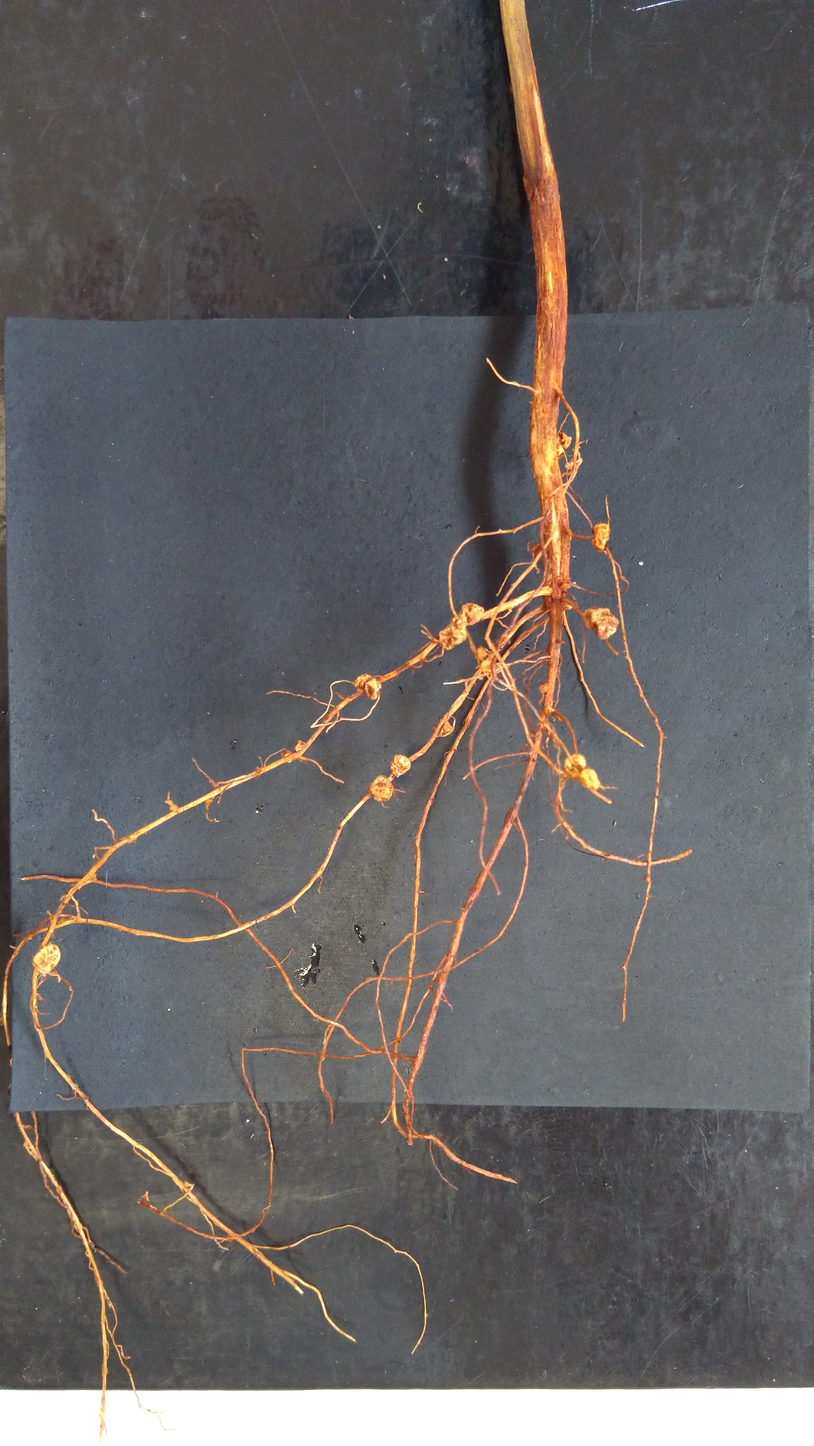nodule: (579, 605, 620, 643), (437, 612, 468, 652), (31, 940, 62, 977), (365, 773, 396, 808), (562, 752, 588, 782), (457, 601, 486, 627), (385, 751, 411, 779), (575, 766, 603, 792), (589, 520, 611, 553), (349, 671, 374, 692), (363, 676, 384, 701), (557, 431, 573, 453), (435, 720, 454, 737), (475, 645, 488, 661), (478, 659, 491, 674), (538, 681, 551, 695)
